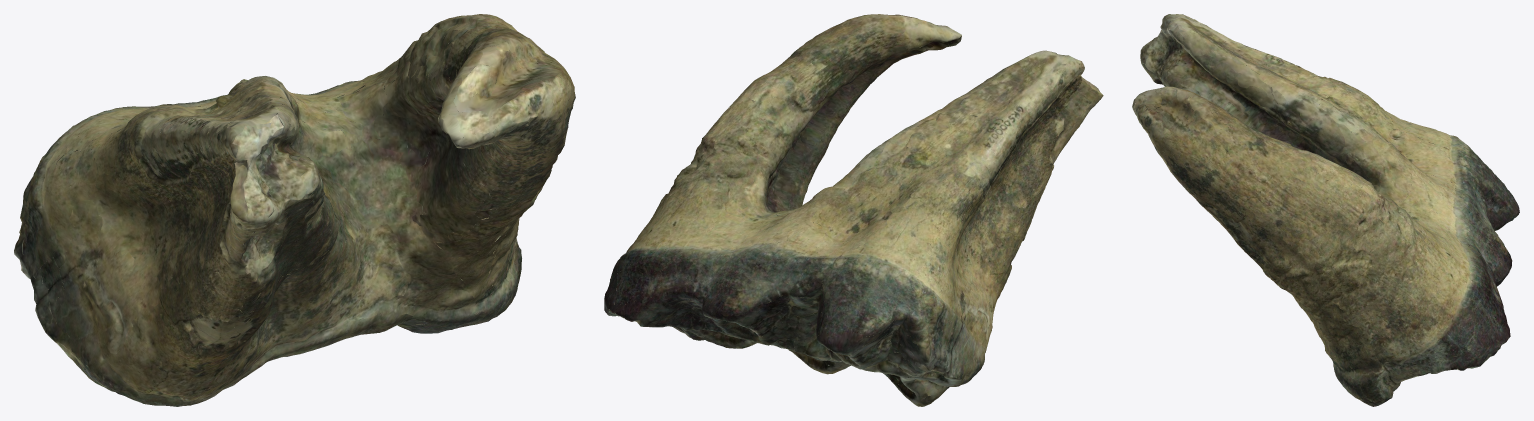
Rendered from GKS-000024 (79)-bake.glb.
3 views of the same model, side by side, from view 1: azimuth 30°, elevation 25°; view 2: azimuth 150°, elevation 25°; view 3: azimuth 270°, elevation 25° (orthographic). The views are drawn at different scales.
Visible parts, largest first — view 1: Mesh_0; view 2: Mesh_0; view 3: Mesh_0.
Part boxes in pixels (<box>): Mesh_0: <box>14,14,575,406</box>; Mesh_0: <box>604,14,1103,406</box>; Mesh_0: <box>1132,14,1519,406</box>.
Bounding box in the file's own units: 0.5101 × 0.4108 × 0.5315.
Materials: 1 (1 with a texture image).
